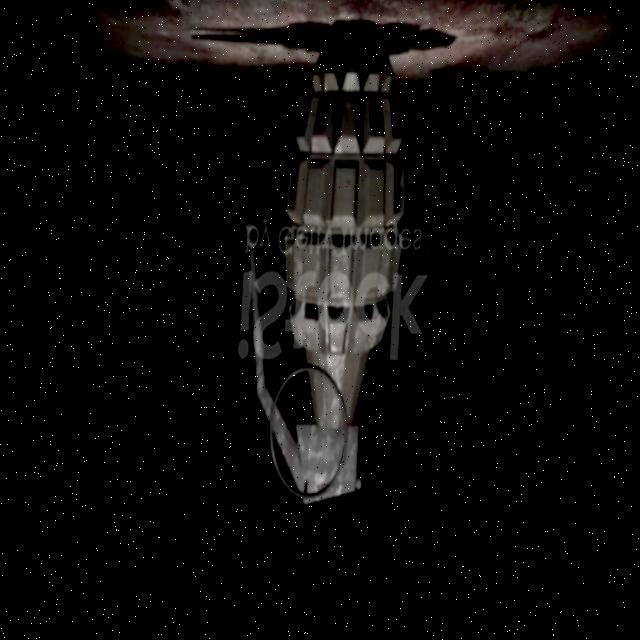grenade: (221, 20, 417, 525)
